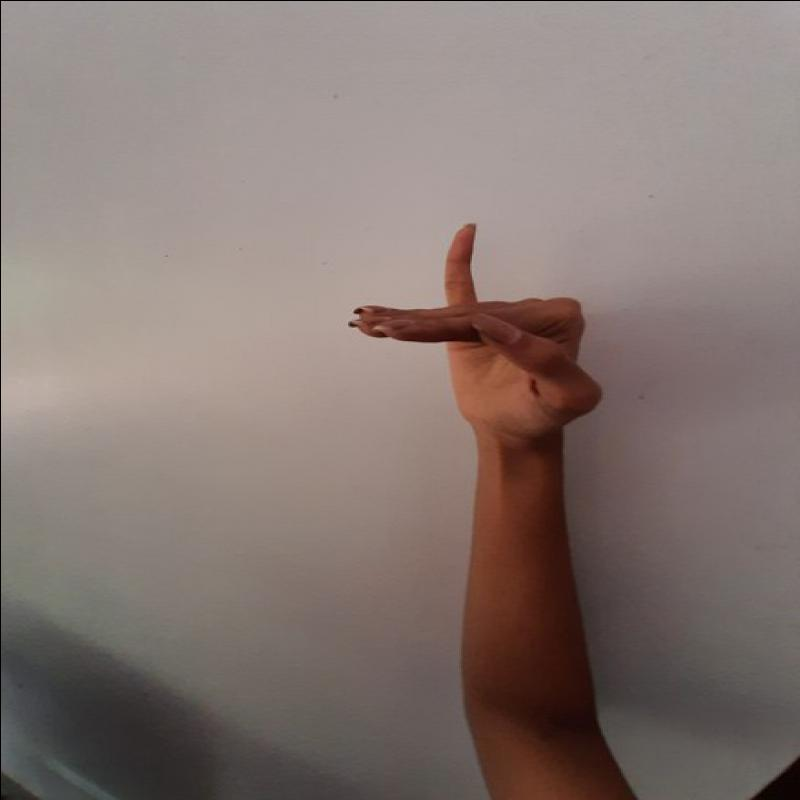Kartharee Mukham: (335, 216, 607, 448)
